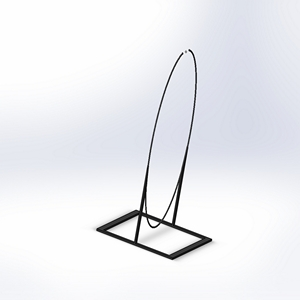circle: (94, 47, 217, 261)
